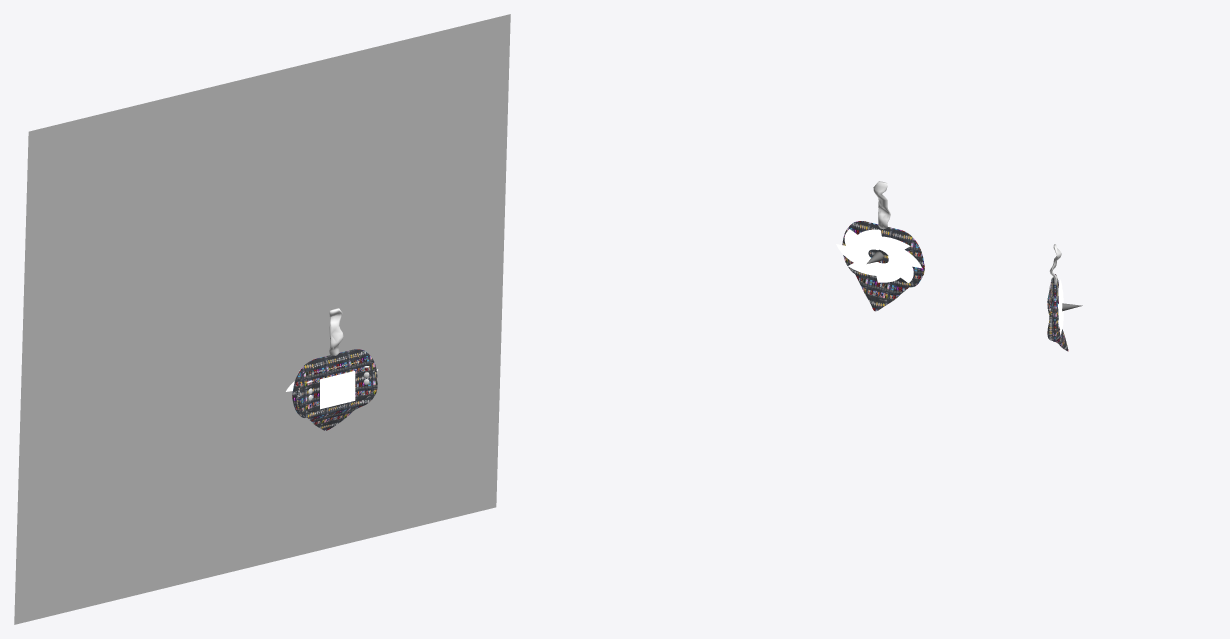
Rendered from FUCKINGTABLET-optimized.glb.
3 views of the same model, side by side, from view 1: azimuth 30°, elevation 25°; view 2: azimuth 150°, elevation 25°; view 3: azimuth 270°, elevation 25° (orthographic). The views are drawn at different scales.
Parts seen in each view (by area): view 1: Plane, PolySphere, PM3D_Plane3D1; view 2: PM3D_Gear3D1, PolySphere; view 3: PolySphere, PM3D_Gear3D1.
Part boxes in pixels (bbox=[...]): Plane: bbox=[14, 14, 510, 624]; PolySphere: bbox=[292, 349, 377, 430]; PM3D_Plane3D1: bbox=[320, 371, 355, 409]; PM3D_Gear3D1: bbox=[836, 229, 921, 283]; PolySphere: bbox=[842, 221, 924, 311]; PolySphere: bbox=[1047, 274, 1068, 351]; PM3D_Gear3D1: bbox=[1058, 279, 1063, 334].
Bounding box in the file's own units: 0.2144 × 0.2141 × 0.0784.
Materials: 8 (1 with a texture image).
